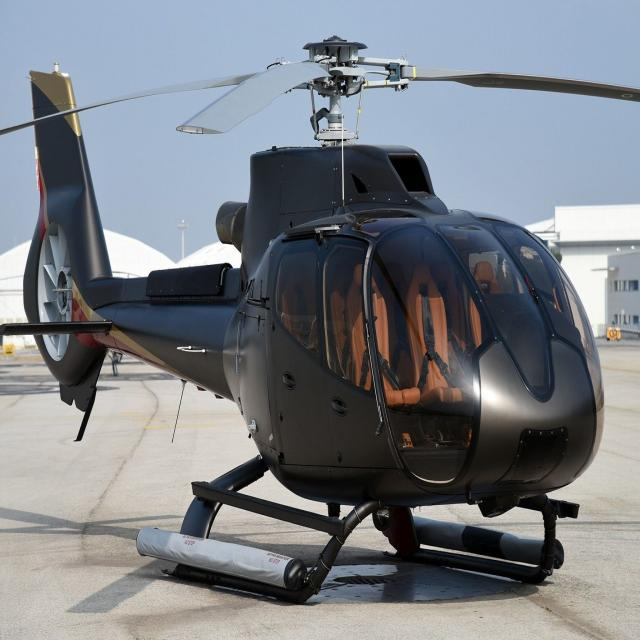helicopter: (1, 24, 617, 622)
